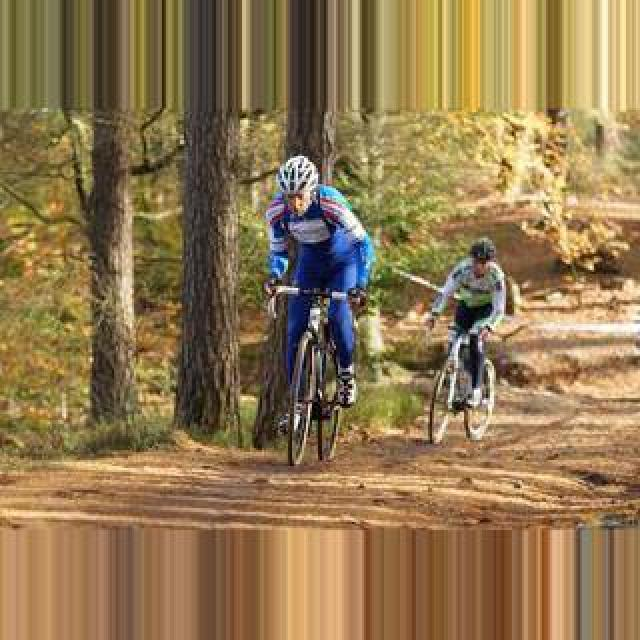MC-Bike: (262, 154, 374, 432), (428, 240, 508, 412)
Person: (267, 281, 363, 465), (425, 319, 503, 445)
